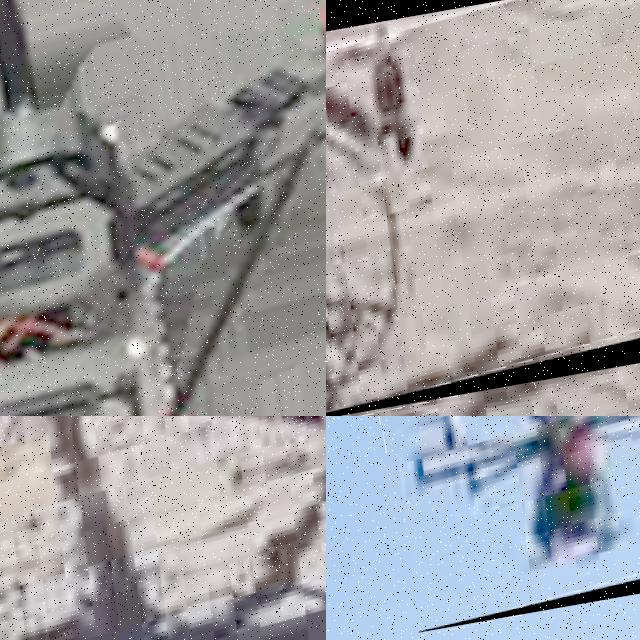drone: (0, 0, 326, 416), (326, 0, 640, 416), (0, 416, 326, 640), (373, 416, 640, 632)
